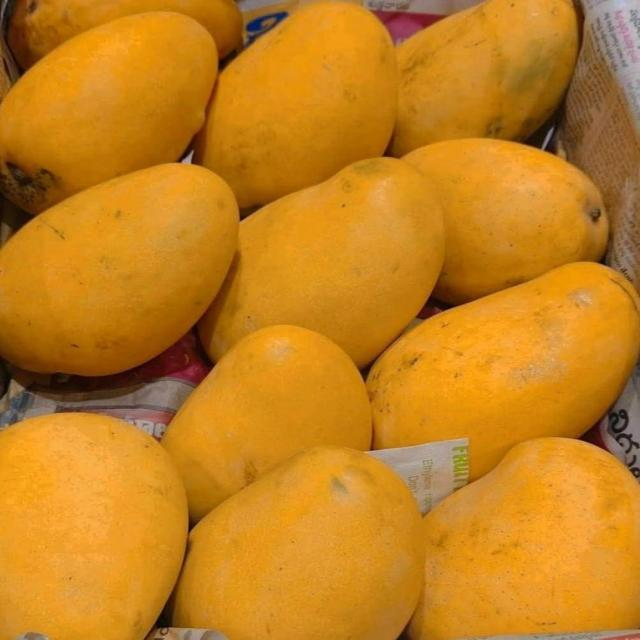mango: (367, 262, 639, 480), (200, 158, 444, 367), (0, 164, 238, 376), (171, 447, 424, 639), (408, 438, 639, 639), (0, 12, 217, 213), (0, 413, 188, 639), (195, 2, 397, 208), (162, 326, 371, 521), (403, 139, 608, 304), (391, 0, 579, 156), (7, 0, 242, 69)
